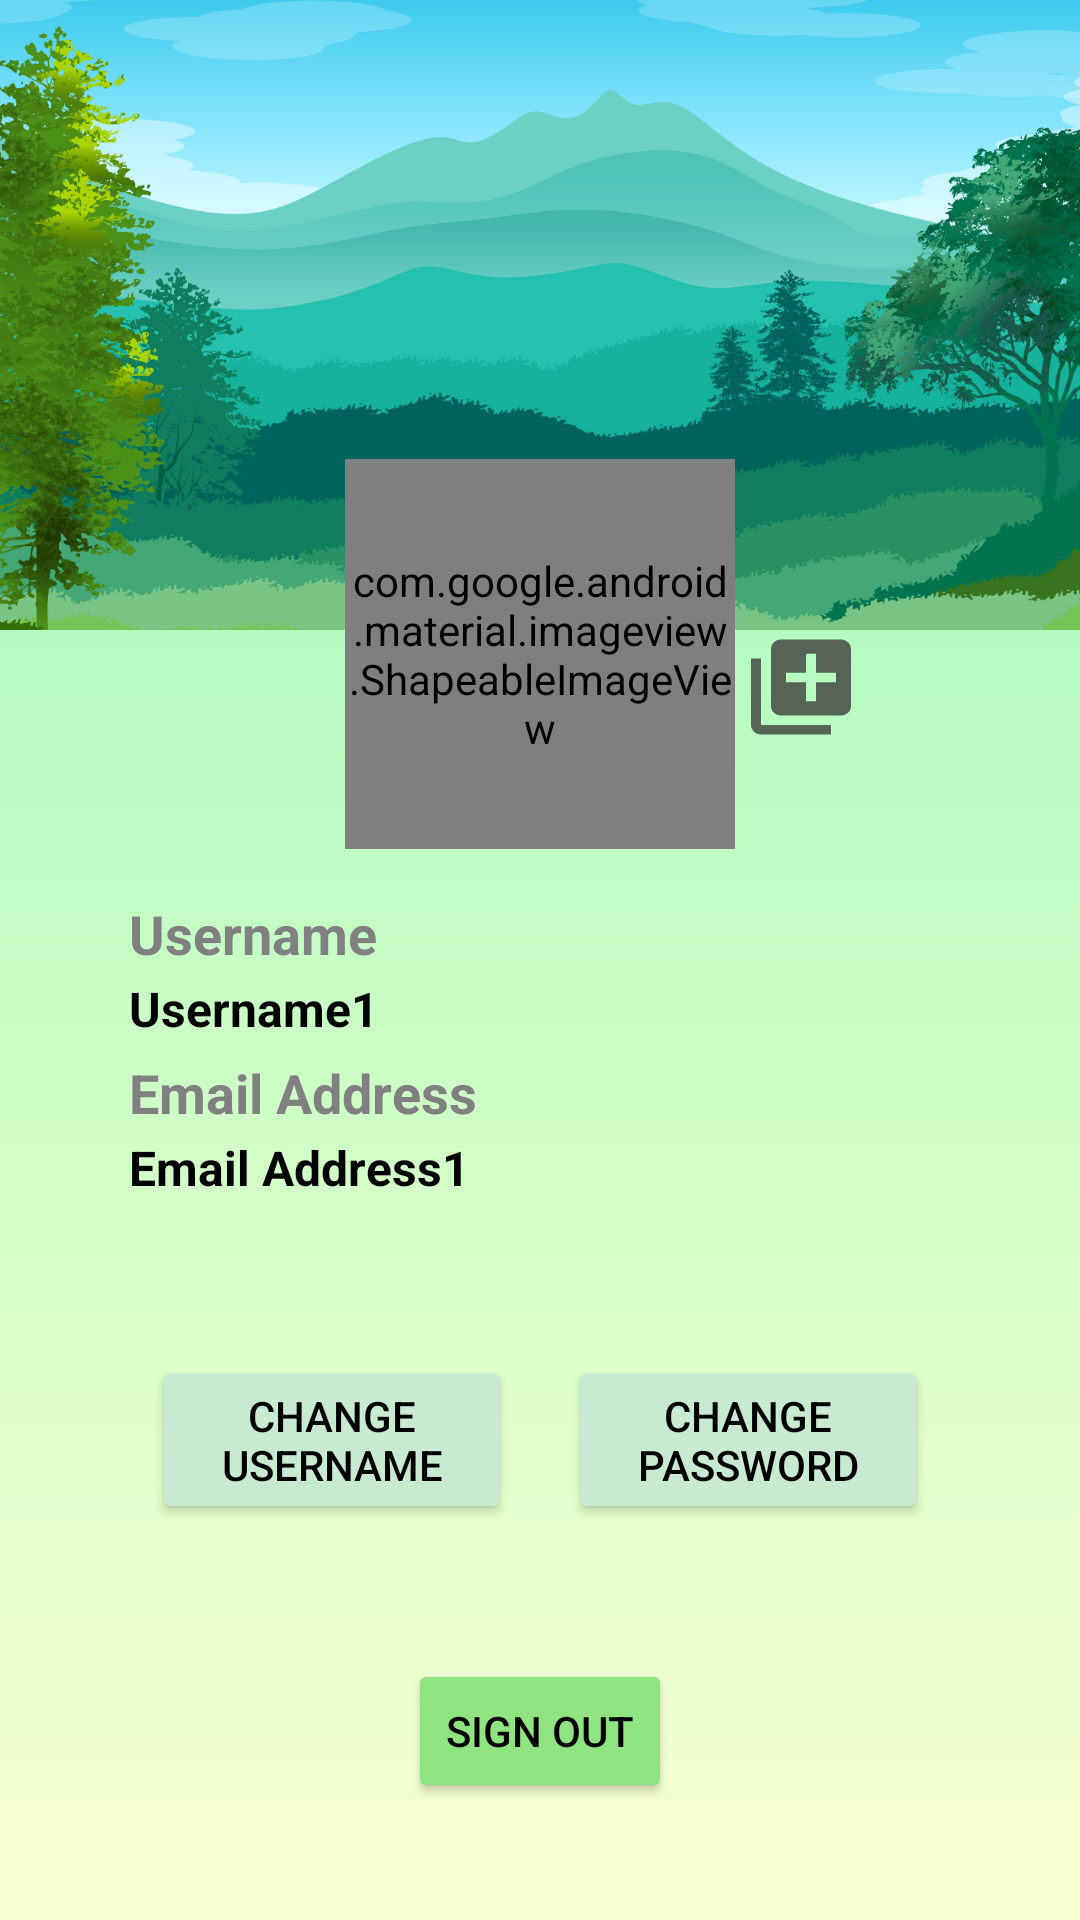

Icons on this 1080px×1920px Android screen, each with its box as (x1, y1, x2, y2):
addpic: (751, 639, 851, 735)
